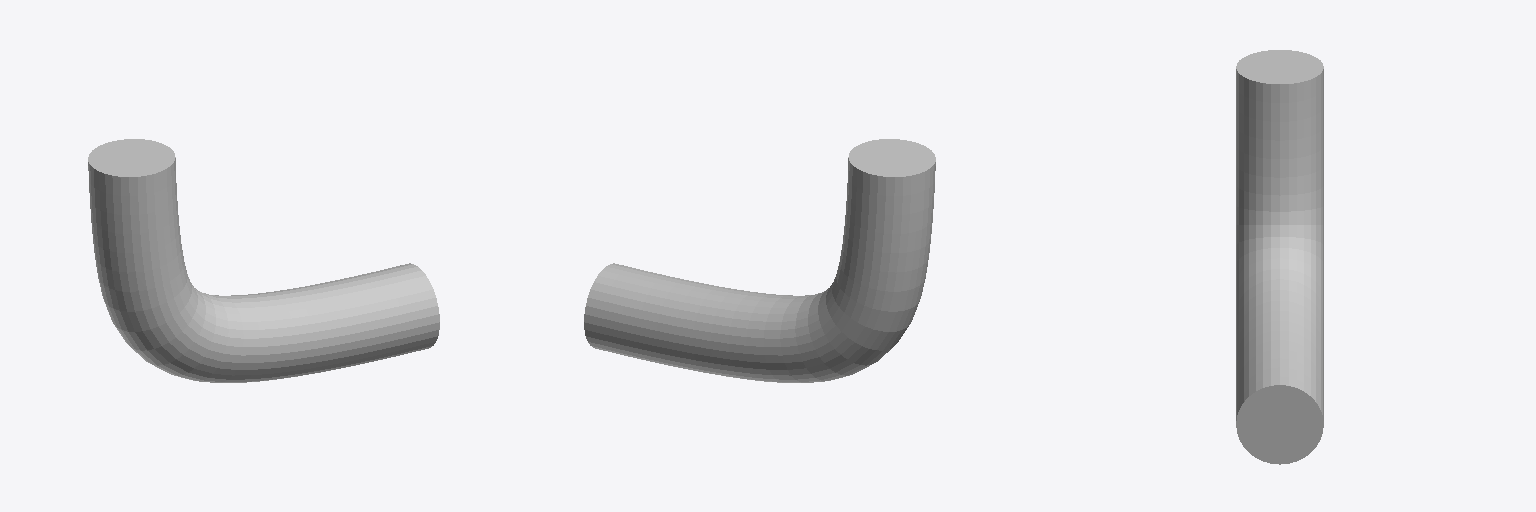
The model's file is pipe-geometric.obj.
The picture shows the model from 3 angles: view 1: azimuth 30°, elevation 25°; view 2: azimuth 150°, elevation 25°; view 3: azimuth 270°, elevation 25°; orthographic projection.
Size of the model in its own units: 3.33 by 2.54 by 0.779.